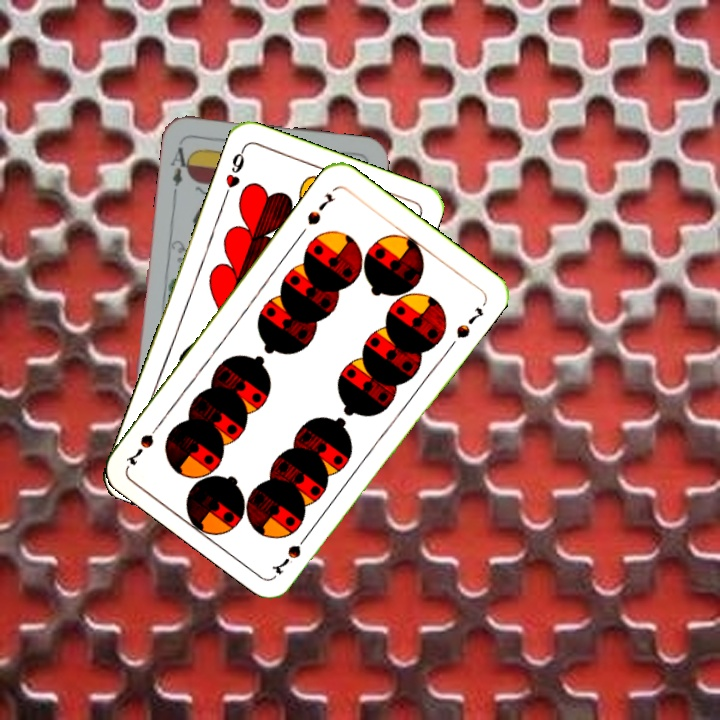EA: (166, 143, 194, 197)
H9: (220, 144, 248, 201)
S7: (268, 527, 313, 578), (303, 189, 337, 228)
